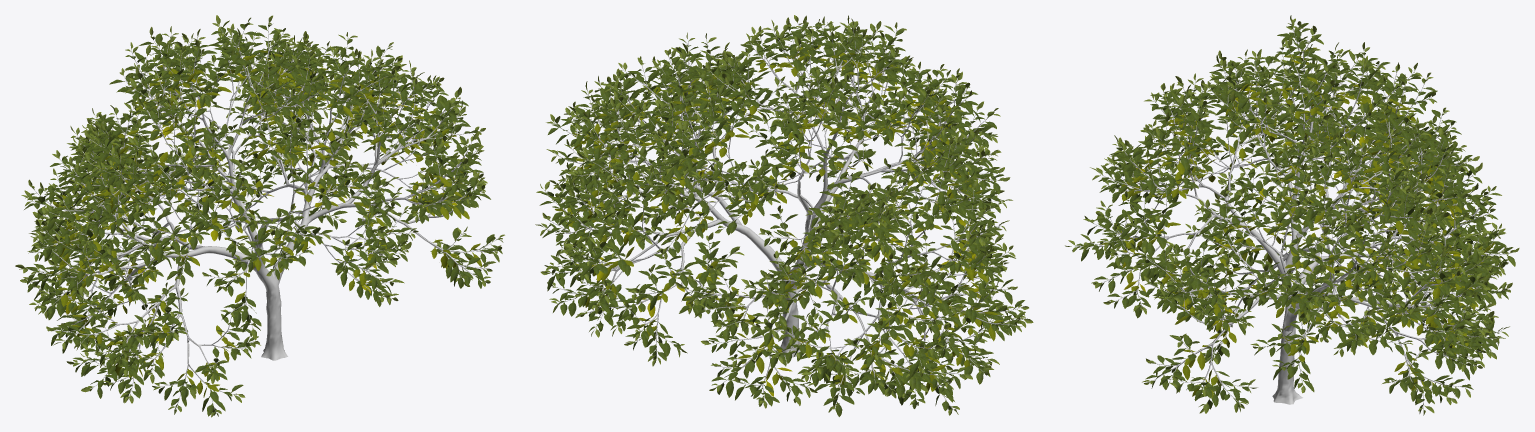
The model's file is Citrus_orange_3m_yellow.obj.
The picture shows the model from 3 angles, left to right: view 1: azimuth 30°, elevation 25°; view 2: azimuth 150°, elevation 25°; view 3: azimuth 270°, elevation 25°; orthographic projection. The views are drawn at different scales.
Parts seen in each view (by area): view 1: Citrus_aurant_leaf_01, Citrus_aurantium_bark, Citrus_aurant_leaf_01_y1, Citrus_aurant_leaf_04, Citrus_aurant_leaf_03, Citrus_aurantium_twig, Citrus_aurant_leaf_02, Citrus_aurant_leaf_01_y2; view 2: Citrus_aurant_leaf_01, Citrus_aurant_leaf_04, Citrus_aurant_leaf_01_y1, Citrus_aurantium_bark, Citrus_aurant_leaf_03, Citrus_aurantium_twig, Citrus_aurant_leaf_02, Citrus_aurant_leaf_01_y2; view 3: Citrus_aurant_leaf_01, Citrus_aurant_leaf_01_y1, Citrus_aurant_leaf_04, Citrus_aurantium_bark, Citrus_aurant_leaf_03, Citrus_aurantium_twig, Citrus_aurant_leaf_02, Citrus_aurant_leaf_01_y2.
Boxes of the visible parts, x1,y1,x2,y2 form: Citrus_aurant_leaf_01: (24, 24, 502, 416); Citrus_aurantium_bark: (51, 47, 475, 385); Citrus_aurant_leaf_01_y1: (45, 47, 481, 397); Citrus_aurant_leaf_04: (15, 15, 504, 417); Citrus_aurant_leaf_03: (19, 20, 502, 413); Citrus_aurantium_twig: (26, 24, 498, 412); Citrus_aurant_leaf_02: (34, 35, 499, 414); Citrus_aurant_leaf_01_y2: (65, 73, 457, 341); Citrus_aurant_leaf_01: (539, 22, 1024, 416); Citrus_aurant_leaf_04: (535, 15, 1033, 415); Citrus_aurant_leaf_01_y1: (555, 45, 1002, 395); Citrus_aurantium_bark: (564, 50, 996, 385); Citrus_aurant_leaf_03: (536, 22, 1025, 409); Citrus_aurantium_twig: (544, 22, 1022, 409); Citrus_aurant_leaf_02: (552, 31, 1025, 390); Citrus_aurant_leaf_01_y2: (580, 60, 978, 396); Citrus_aurant_leaf_01: (1072, 23, 1513, 413); Citrus_aurant_leaf_01_y1: (1094, 47, 1494, 397); Citrus_aurant_leaf_04: (1065, 15, 1519, 415); Citrus_aurantium_bark: (1103, 49, 1484, 404); Citrus_aurant_leaf_03: (1072, 23, 1514, 413); Citrus_aurantium_twig: (1074, 23, 1512, 408); Citrus_aurant_leaf_02: (1080, 26, 1515, 401); Citrus_aurant_leaf_01_y2: (1122, 60, 1460, 344).
Size of what is drawn, in the model's own units: 4.07 by 3.15 by 3.64.
